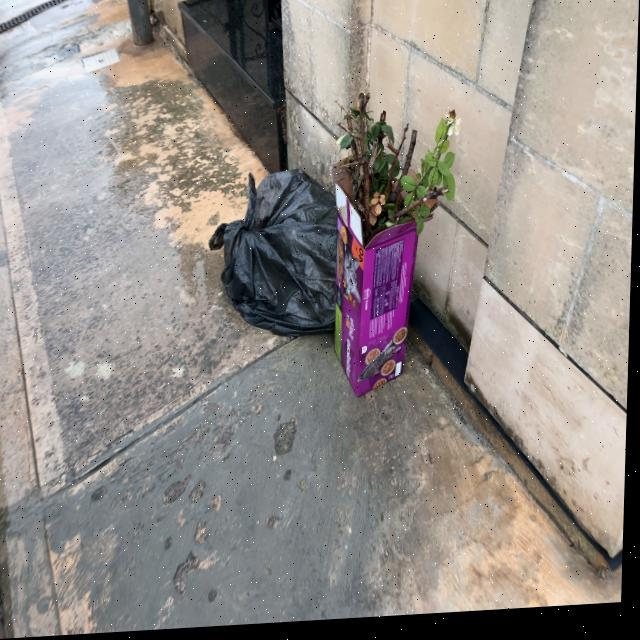Mixed Waste -Black Bag-: (207, 175, 342, 346)
Other: (333, 96, 461, 403)
